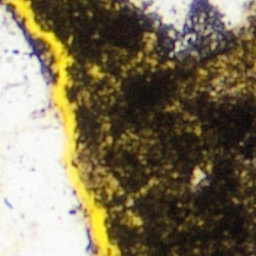cement_matrix: (27, 0, 255, 255), (31, 38, 53, 77), (193, 170, 203, 183), (107, 179, 115, 189), (92, 68, 99, 75), (131, 217, 136, 221)
cracks: (0, 0, 119, 255), (30, 37, 54, 78)
gravel_crushed_stones: (0, 6, 91, 255), (126, 0, 197, 50), (204, 0, 255, 31), (194, 171, 202, 182), (108, 180, 114, 188), (93, 69, 98, 74), (132, 218, 135, 220)
